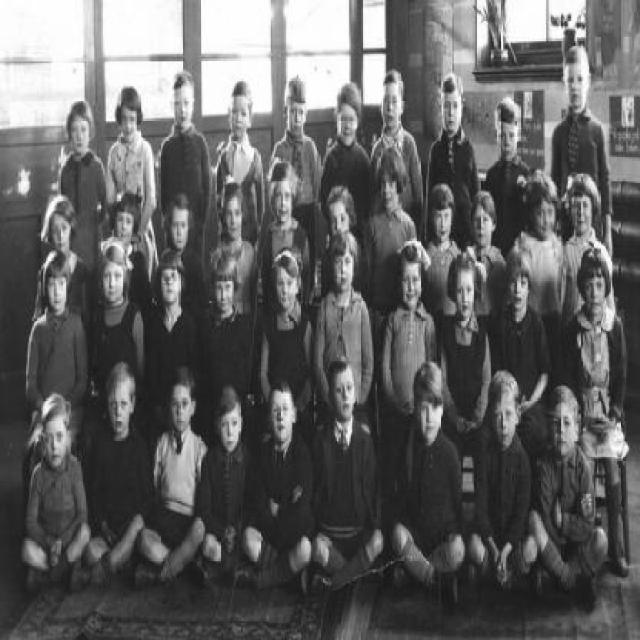Person: (32, 31, 620, 594), (566, 242, 632, 576), (299, 352, 383, 599), (70, 361, 152, 587), (388, 362, 464, 604), (231, 377, 314, 592), (134, 366, 209, 586), (20, 393, 91, 598), (25, 252, 90, 470), (197, 392, 263, 594), (314, 233, 374, 442), (203, 248, 254, 429), (144, 250, 201, 407), (92, 237, 145, 391)
